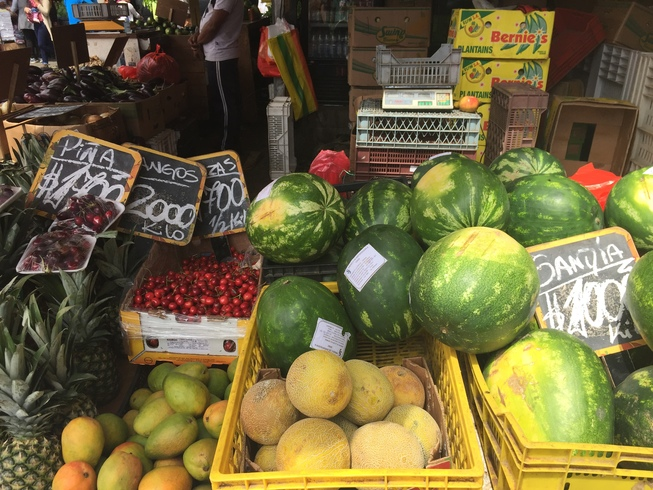precio: (500, 214, 653, 363), (19, 119, 152, 244), (107, 135, 215, 252), (166, 146, 268, 250)
